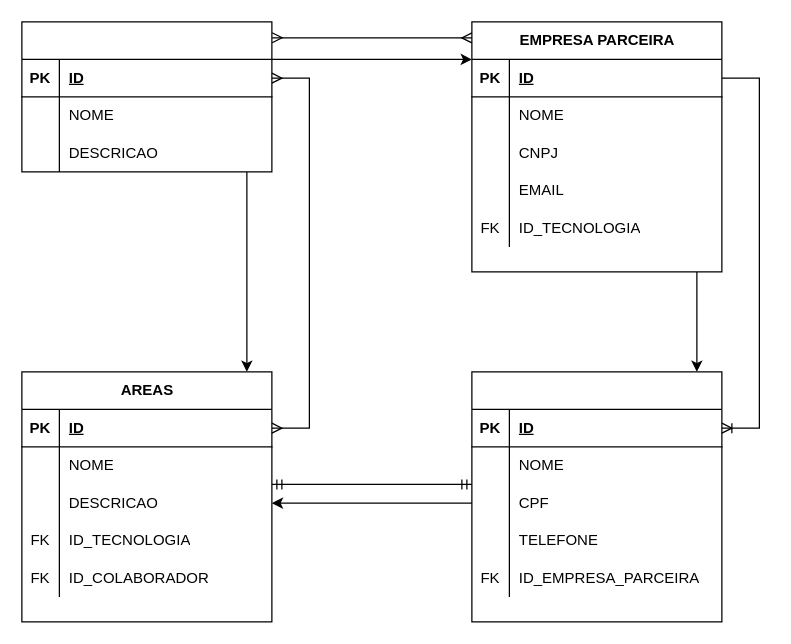
This 791x644 diagram has some shape labels left out. Here are the shapes that lost their labels. From the top down, the box of each, then its label:
(21, 21, 272, 172): TECNOLOGIAS
(471, 371, 722, 622): COLABORADORES
